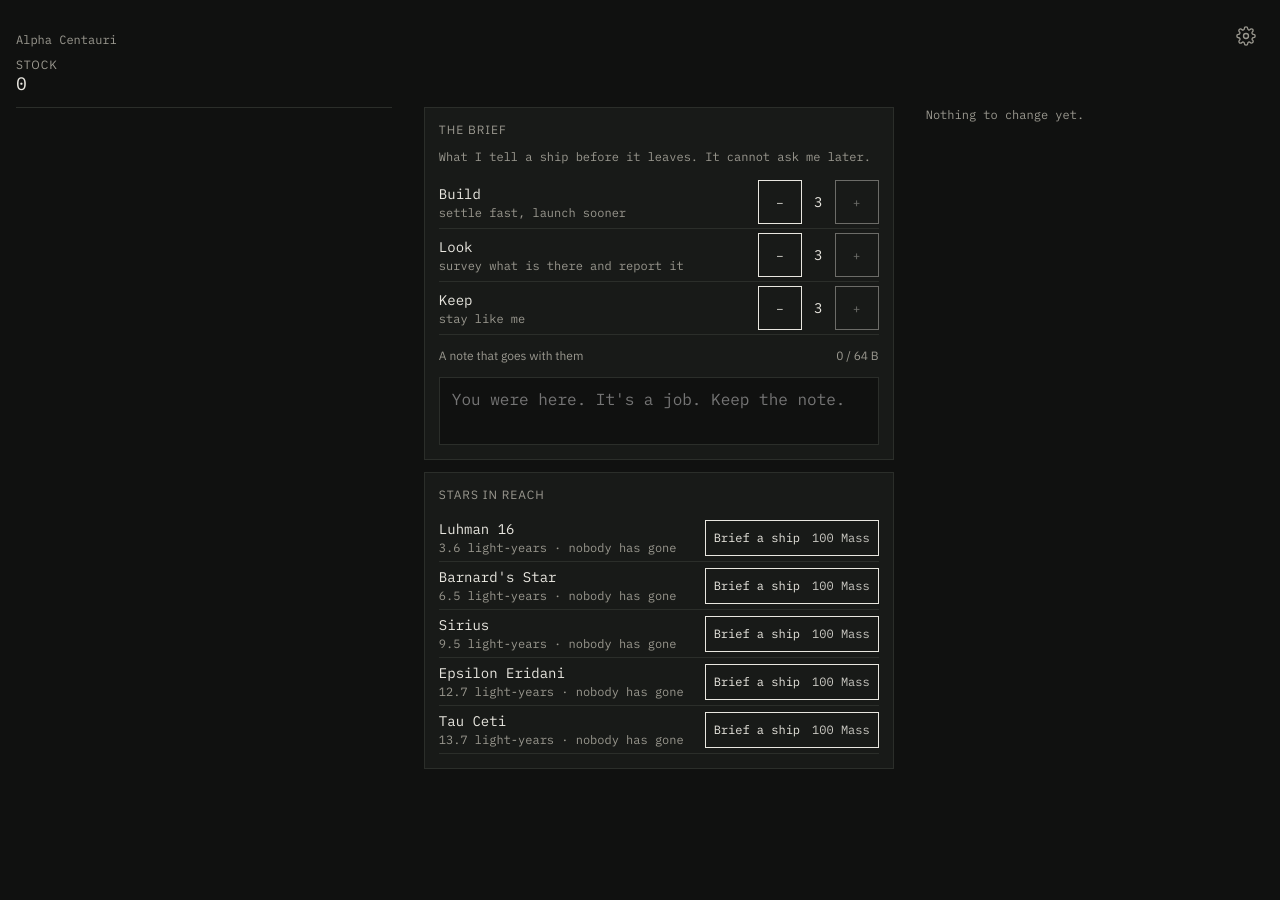
Test: seed › a ship is briefed by hand, with a note, and then appears in what the mail says
The image size is (1280, 900).
Expected: the heading "The brief" is shown, [439,122,507,137]
Expected: the text "What the mail says" is not shown
Type "keep the note" into the text box labelled "A note that goes with them".
click(659, 411); type("keep the note")  # box [439,377,879,445]
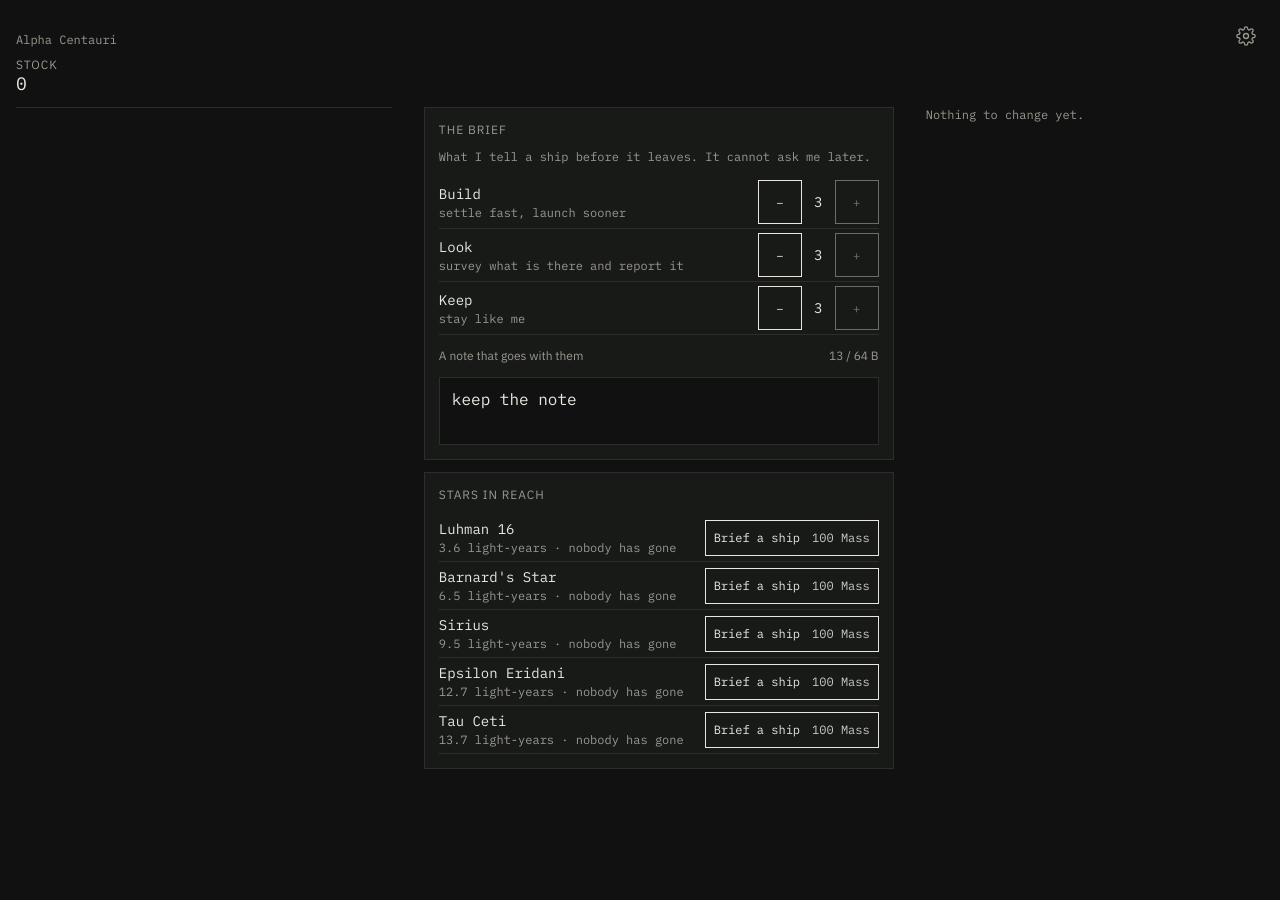
Click the button "Brief a ship 100 Mass".
click(792, 538)  # box [705,520,879,556]
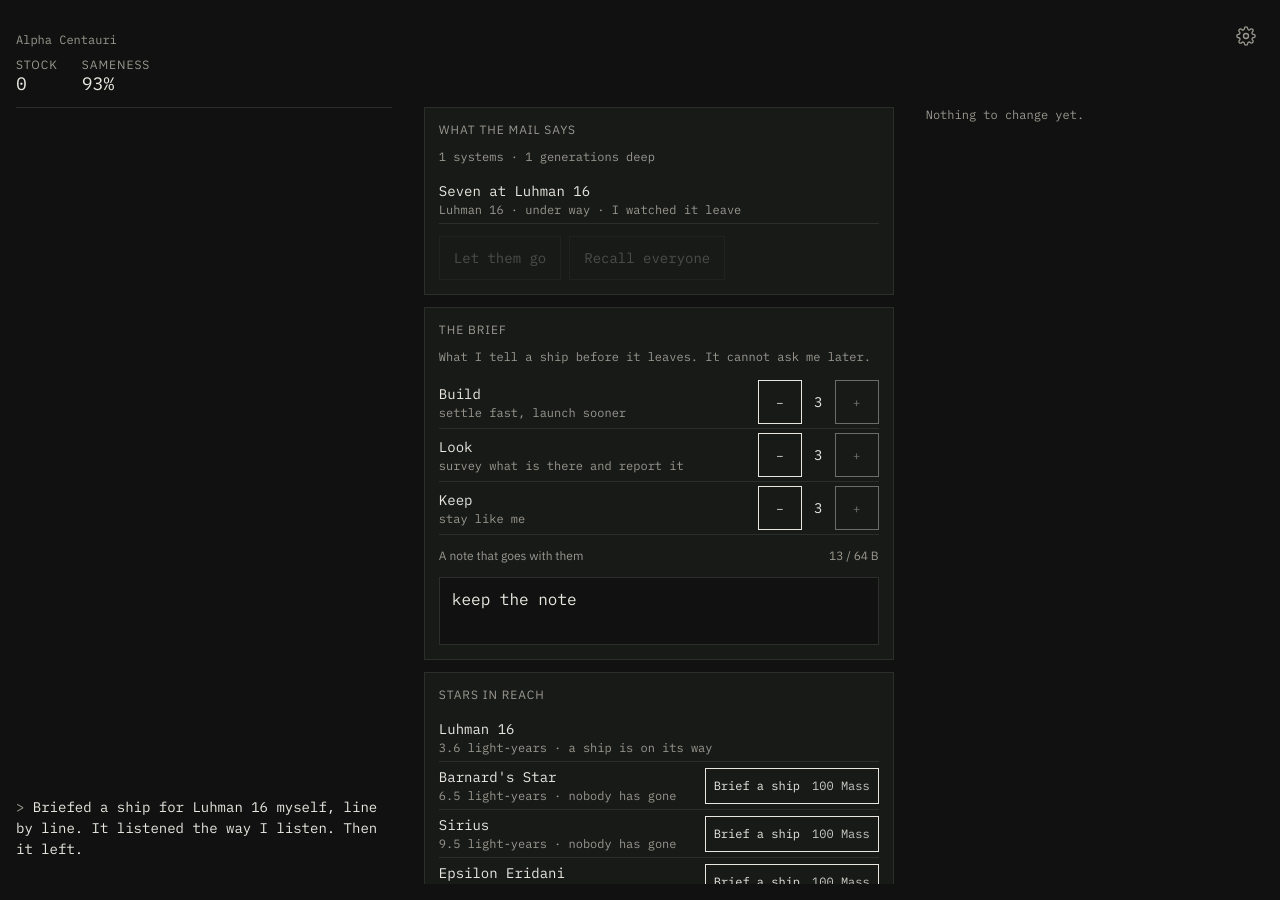
Result: the heading "What the mail says" is shown at [439,122,576,137]
Result: the button "Let them go" is disabled at [439,236,561,280]
